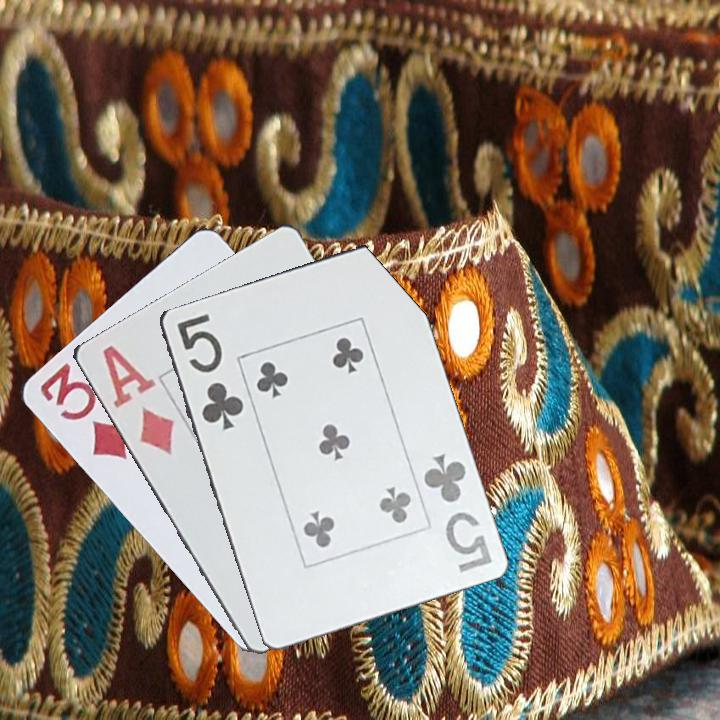3d: (35, 359, 130, 463)
5c: (419, 449, 495, 576), (172, 309, 246, 433)
Ad: (98, 341, 180, 458)
